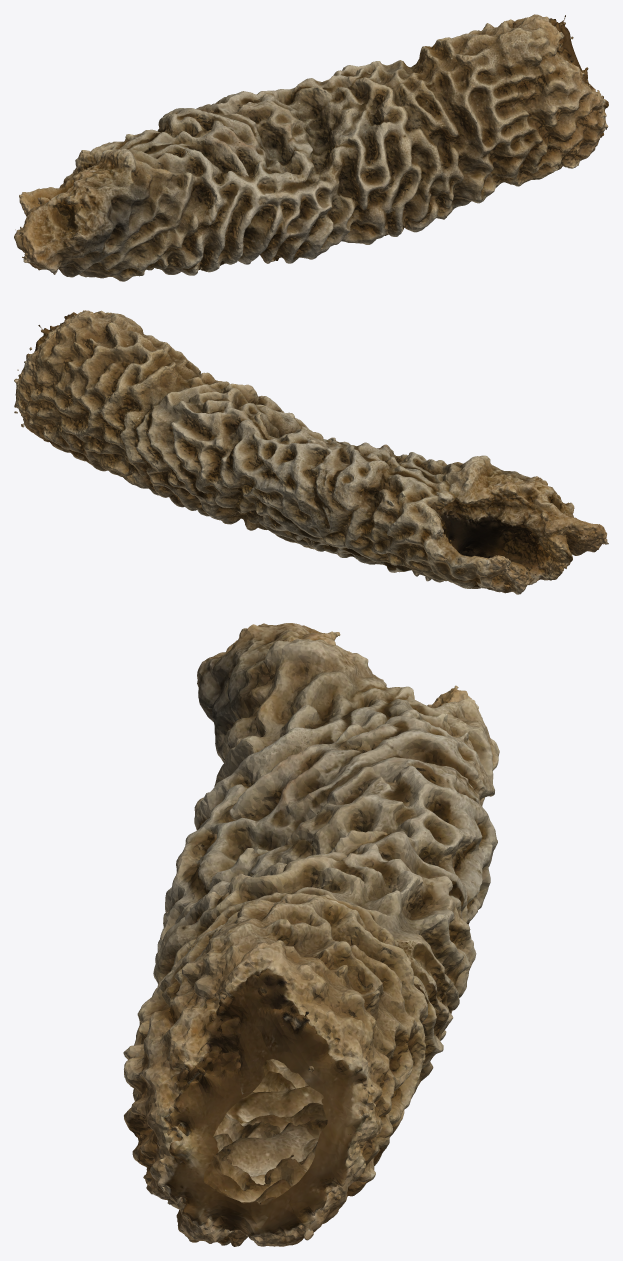
Rendered from MZUR3D-069.glb.
3 views of the same model, one above another, from view 1: azimuth 30°, elevation 25°; view 2: azimuth 150°, elevation 25°; view 3: azimuth 270°, elevation 25° (orthographic). The views are drawn at different scales.
Parts seen in each view (by area): view 1: Aplysina; view 2: Aplysina; view 3: Aplysina.
Part boxes in pixels (<box>): Aplysina: <box>14,14,608,281</box>; Aplysina: <box>14,310,608,594</box>; Aplysina: <box>123,623,499,1246</box>.
Size of the model in its own units: 9.87 by 2.88 by 2.82.
Materials: 1 (1 with a texture image).
